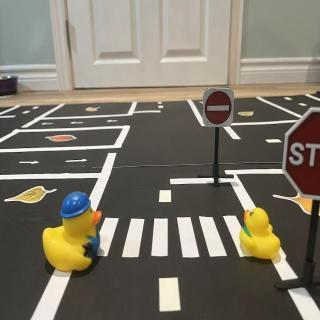duck_regular: (240, 209, 282, 263)
duck_specialty: (43, 193, 104, 275)
road_crosswalk: (98, 211, 260, 261)
road_oneway: (65, 158, 89, 166), (19, 159, 41, 167), (69, 120, 87, 126), (41, 121, 56, 127), (106, 119, 119, 125)
sign_noentry: (203, 89, 236, 131)
sign_stop: (283, 110, 320, 201)
